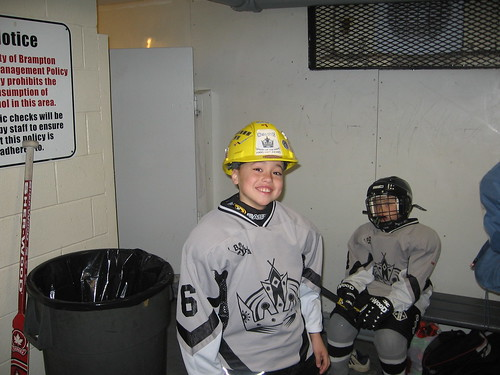person hardhat: (177, 119, 336, 375)
